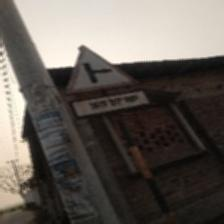Side-road-left: (65, 46, 152, 119)
